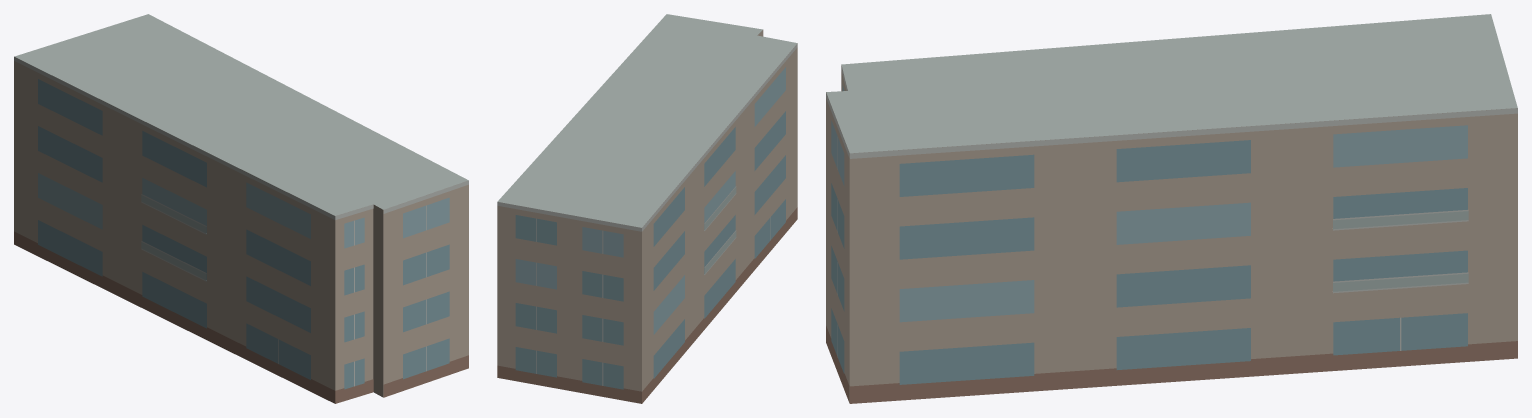
The model's file is survey-upis-32699036.glb.
3 renders of one model, left to right at view 1: azimuth 30°, elevation 25°; view 2: azimuth 150°, elevation 25°; view 3: azimuth 270°, elevation 25°, orthographic. The views are drawn at different scales.
Visible parts, largest first — view 1: survey-upis-32699036.tmp; view 2: survey-upis-32699036.tmp; view 3: survey-upis-32699036.tmp.
Boxes of the visible parts, <box> form: survey-upis-32699036.tmp: <box>14,14,468,403</box>; survey-upis-32699036.tmp: <box>497,14,797,403</box>; survey-upis-32699036.tmp: <box>826,14,1517,403</box>.
Size of the model in its own units: 13.02 by 10.9 by 27.29.
